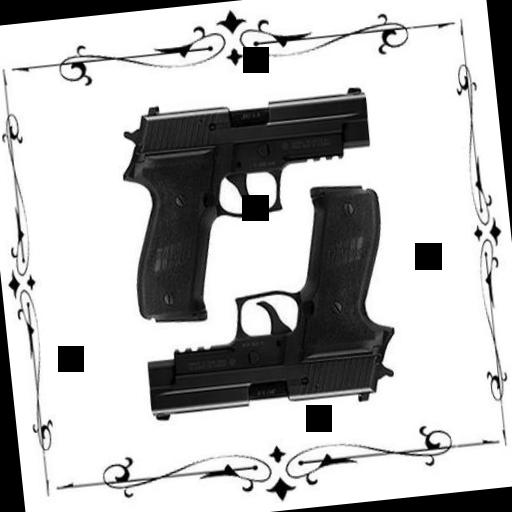Handgun: (128, 178, 398, 422), (116, 82, 386, 324)
